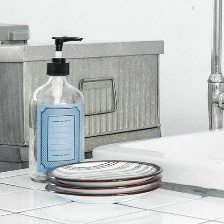bottle: (25, 57, 89, 185)
